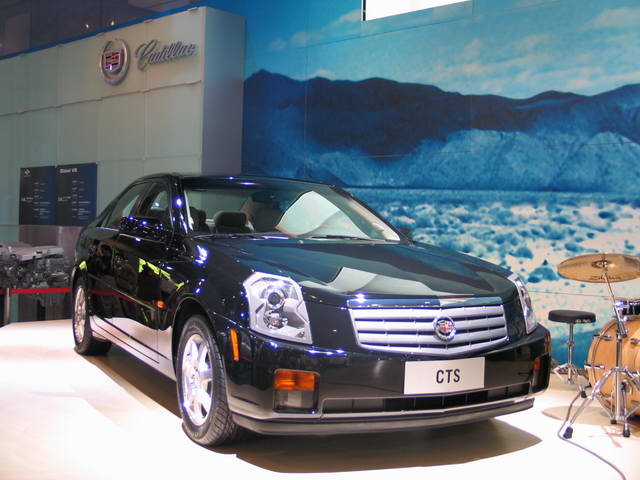car: (31, 151, 553, 467)
